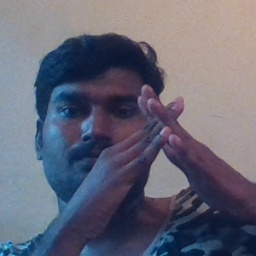W: (107, 78, 223, 190)
